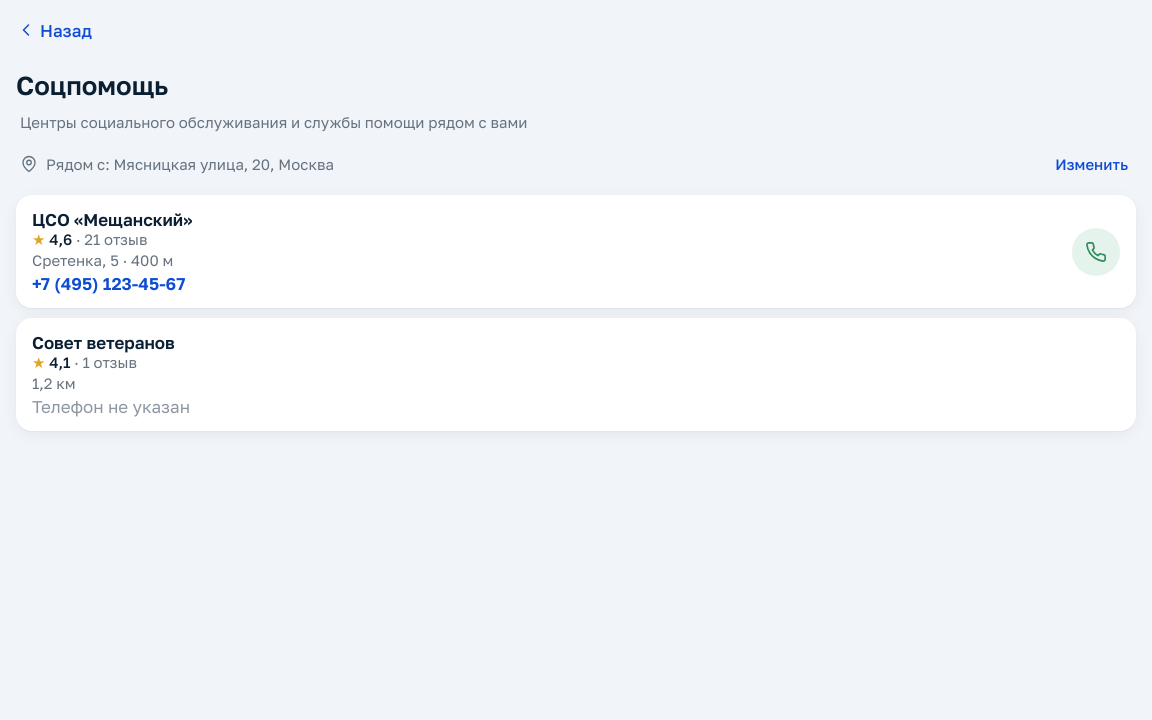
Test: SocialPage › нажатие открывает окно звонка с набранным номером
Click the button with aria-label "Позвонить: ЦСО «Мещанский»" at (112, 220), box [16, 195, 1136, 308]
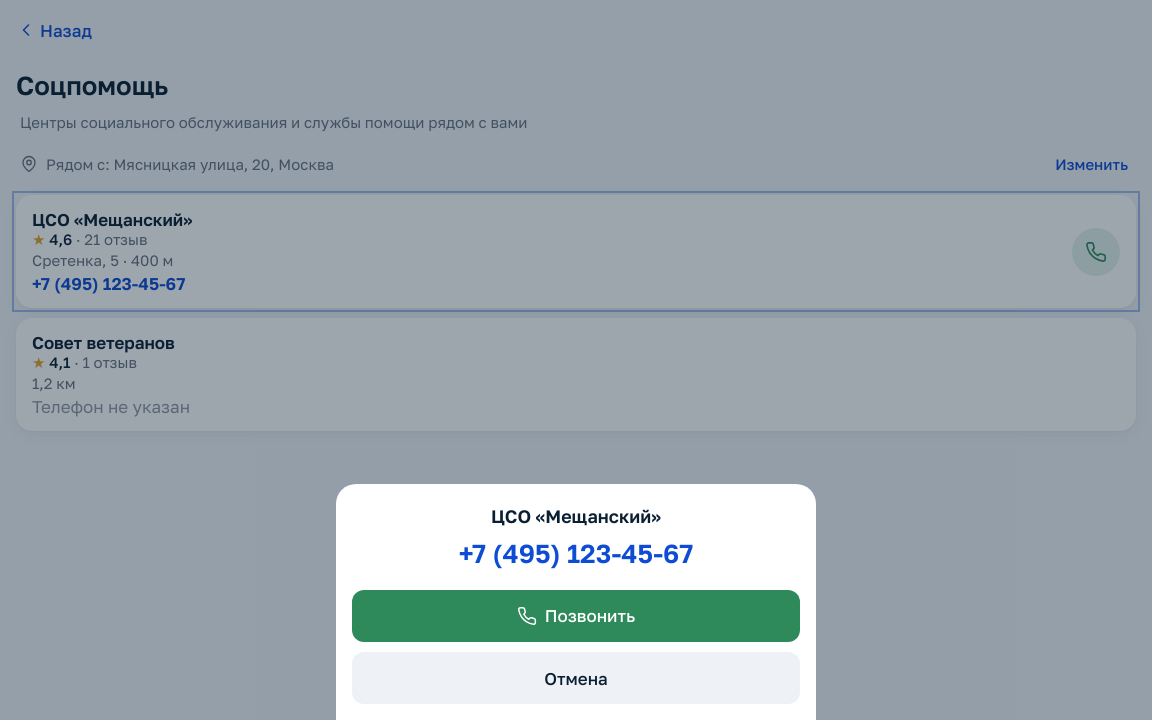
Click the button "Отмена" at (576, 678), box [352, 652, 800, 704]
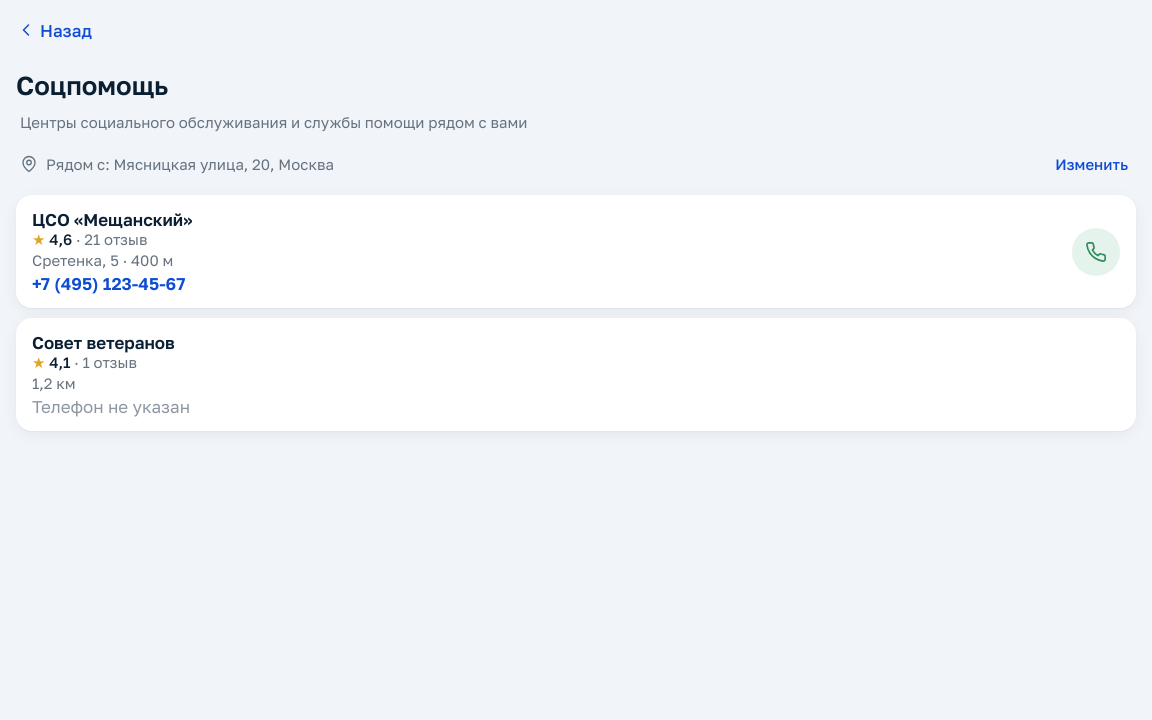
expect the link "Позвонить" is gone: met
